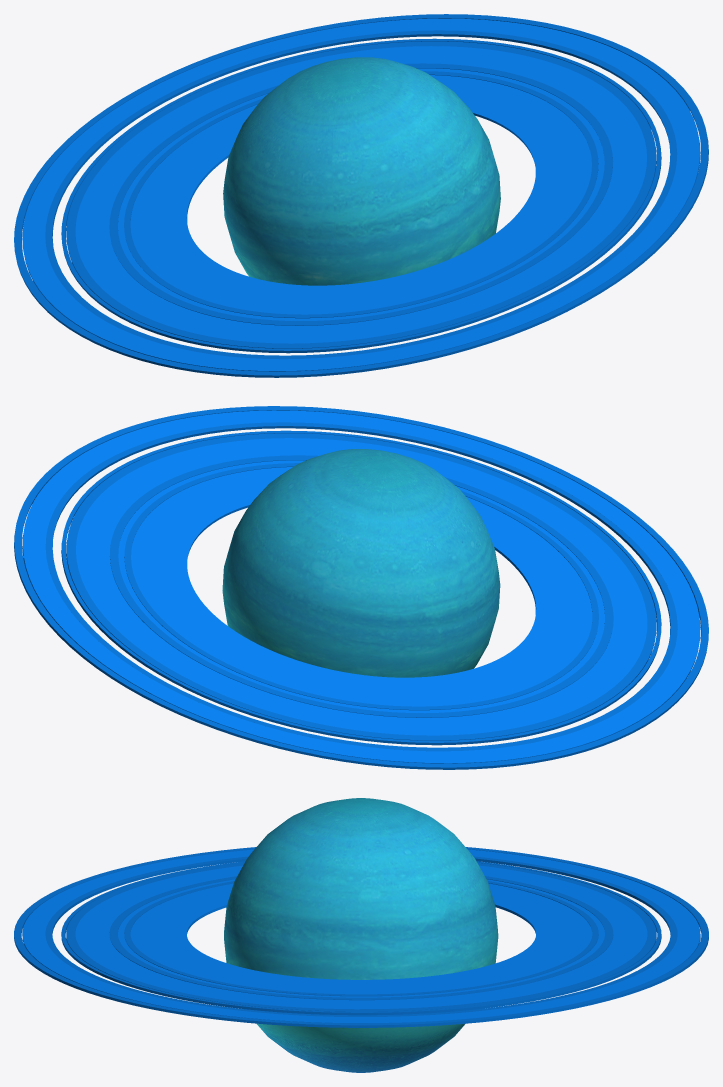
File: saturn.gltf
The picture shows the model from 3 angles, top to bottom: view 1: azimuth 30°, elevation 25°; view 2: azimuth 150°, elevation 25°; view 3: azimuth 270°, elevation 25°; orthographic projection.
Parts seen in each view (by area): view 1: Saturn_rings(atlas01), Saturn_planet(atlas01); view 2: Saturn_rings(atlas01), Saturn_planet(atlas01); view 3: Saturn_rings(atlas01), Saturn_planet(atlas01).
Part boxes in pixels (x1,y1,x2,y2): Saturn_rings(atlas01): (14,14,708,377); Saturn_planet(atlas01): (223,57,500,285); Saturn_rings(atlas01): (14,406,708,769); Saturn_planet(atlas01): (222,449,500,677); Saturn_rings(atlas01): (14,847,708,1027); Saturn_planet(atlas01): (224,798,498,1072).
Size of the model in its own units: 6.19 by 2.49 by 6.28.
1 material, 1 textured.
